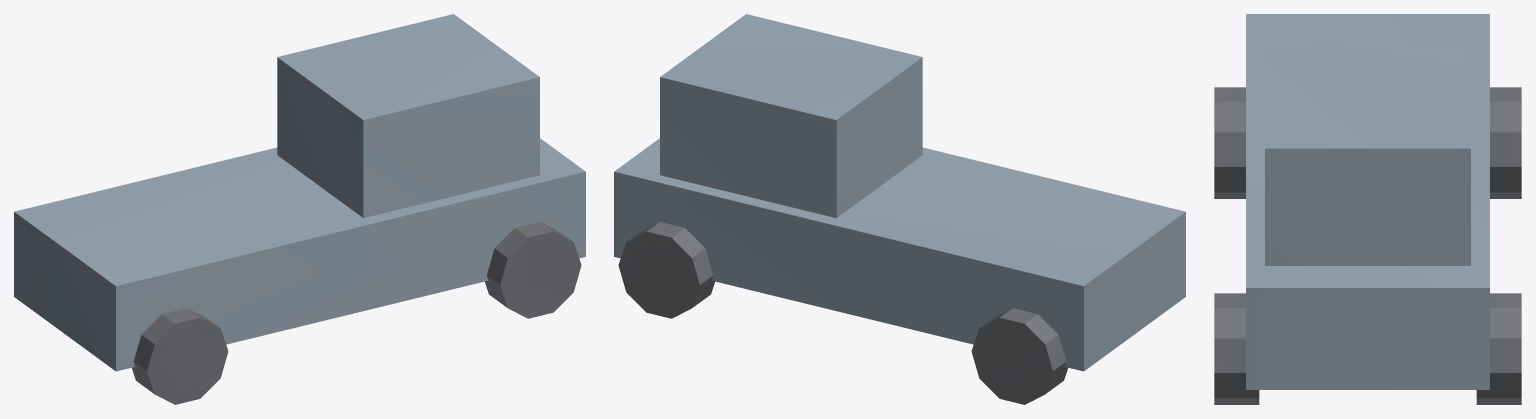
Rendered from road_vehicle-02.glb.
3 views of the same model, side by side, from view 1: azimuth 30°, elevation 25°; view 2: azimuth 150°, elevation 25°; view 3: azimuth 270°, elevation 25° (orthographic). The views are drawn at different scales.
Visible parts, largest first — view 1: world; view 2: world; view 3: world.
Boxes of the visible parts, <box> form: world: <box>14,14,585,404</box>; world: <box>614,14,1185,404</box>; world: <box>1214,14,1521,404</box>.
Bounding box in the file's own units: 1.73 × 0.7677 × 0.82.
